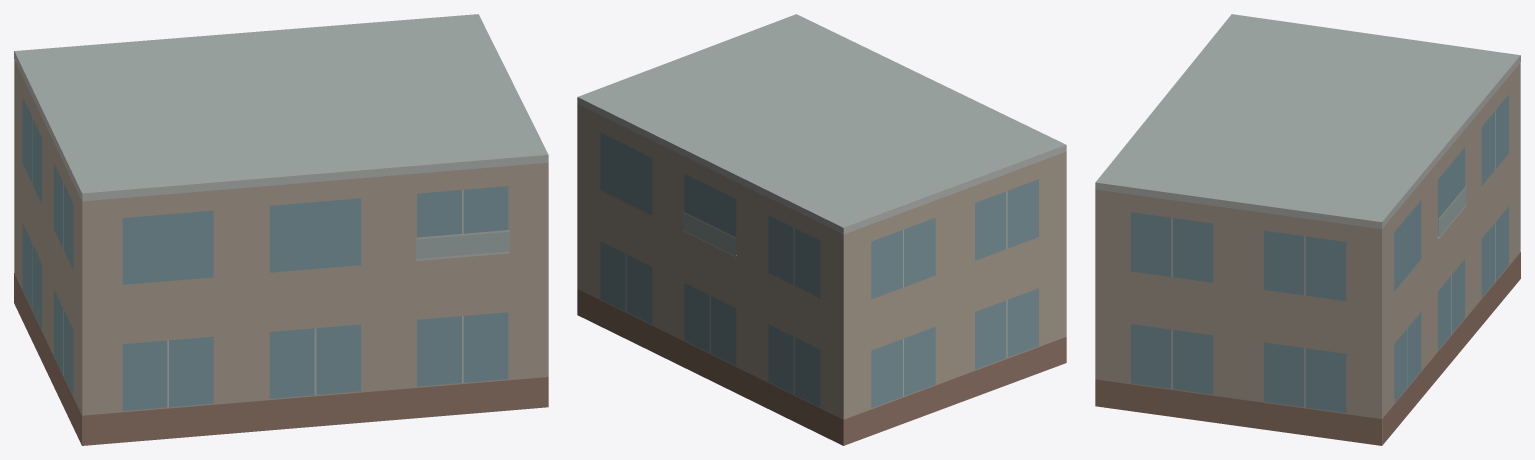
The model's file is survey-upis-32768863.glb.
3 renders of one model, left to right at view 1: azimuth 30°, elevation 25°; view 2: azimuth 150°, elevation 25°; view 3: azimuth 270°, elevation 25°, orthographic. The views are drawn at different scales.
Parts seen in each view (by area): view 1: survey-upis-32768863.tmp; view 2: survey-upis-32768863.tmp; view 3: survey-upis-32768863.tmp.
Part boxes in pixels (x1,y1,x2,y2): survey-upis-32768863.tmp: (14, 14, 548, 445); survey-upis-32768863.tmp: (577, 14, 1066, 445); survey-upis-32768863.tmp: (1095, 14, 1520, 445).
Size of the model in its own units: 15.58 by 7.8 by 13.45.
